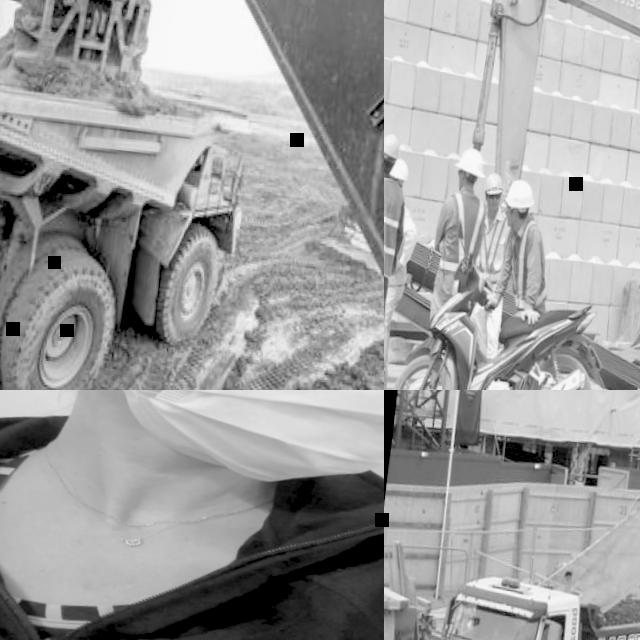Hardhat: (456, 143, 487, 176), (505, 176, 536, 207), (484, 170, 506, 195), (389, 158, 409, 181), (384, 131, 400, 156)
Mask: (62, 390, 384, 498)
NO-Mask: (505, 212, 519, 226), (489, 198, 502, 211), (456, 178, 465, 188)
NO-Safety Vest: (0, 425, 384, 640)
Person: (0, 390, 384, 640), (413, 140, 494, 390), (477, 176, 564, 390), (457, 167, 517, 390), (384, 157, 427, 390), (384, 126, 415, 390)
Safety Vest: (504, 211, 559, 313), (436, 188, 487, 275), (473, 203, 512, 283), (384, 172, 406, 275), (388, 234, 413, 288)
vehicle: (0, 0, 384, 390), (0, 51, 259, 390), (443, 0, 640, 390), (424, 471, 640, 640)
